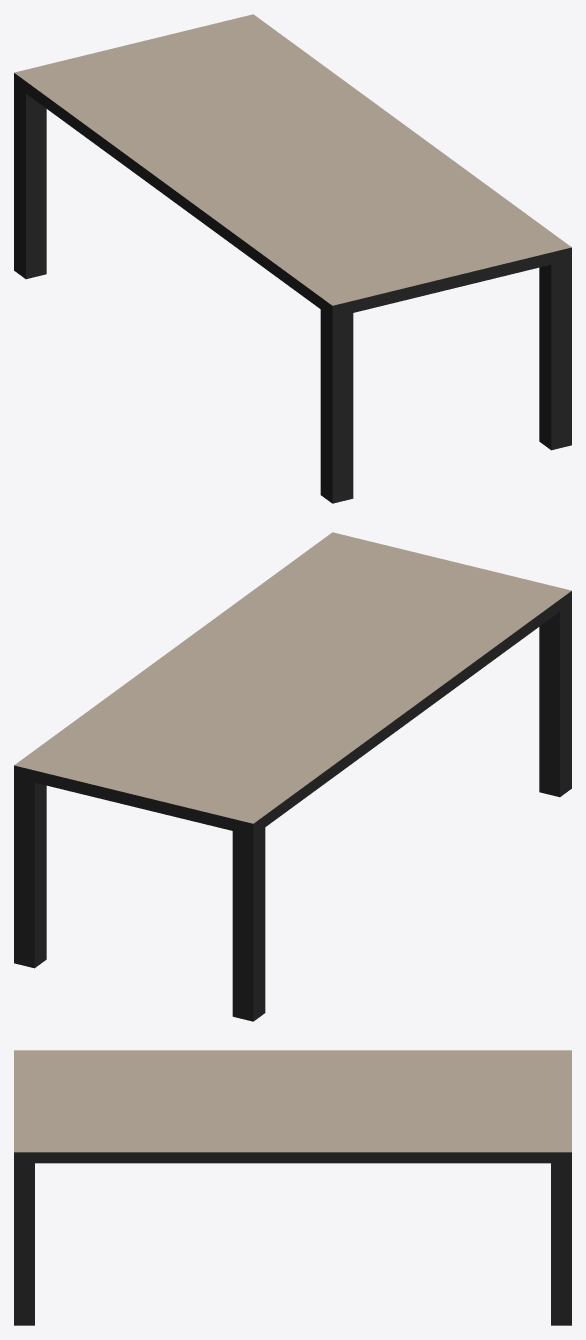
The model's file is GrandeTable_7.fbx.
3 renders of one model, top to bottom at view 1: azimuth 30°, elevation 25°; view 2: azimuth 150°, elevation 25°; view 3: azimuth 270°, elevation 25°, orthographic. The views are drawn at different scales.
Parts seen in each view (by area): view 1: pCube43, pCube47, pCube46, pCube49; view 2: pCube43, pCube49, pCube48, pCube47; view 3: pCube43, pCube48, pCube46.
Part boxes in pixels (x1,y1,x2,y2): pCube43: (14,14,571,317); pCube47: (320,309,353,503); pCube46: (539,259,571,450); pCube49: (14,84,46,279); pCube43: (14,532,571,835); pCube49: (232,827,265,1021); pCube48: (14,777,46,968); pCube47: (539,602,571,797); pCube43: (14,1050,571,1163); pCube48: (551,1162,571,1325); pCube46: (14,1162,34,1325).
Size of the model in its own units: 50.06 by 39.53 by 115.
